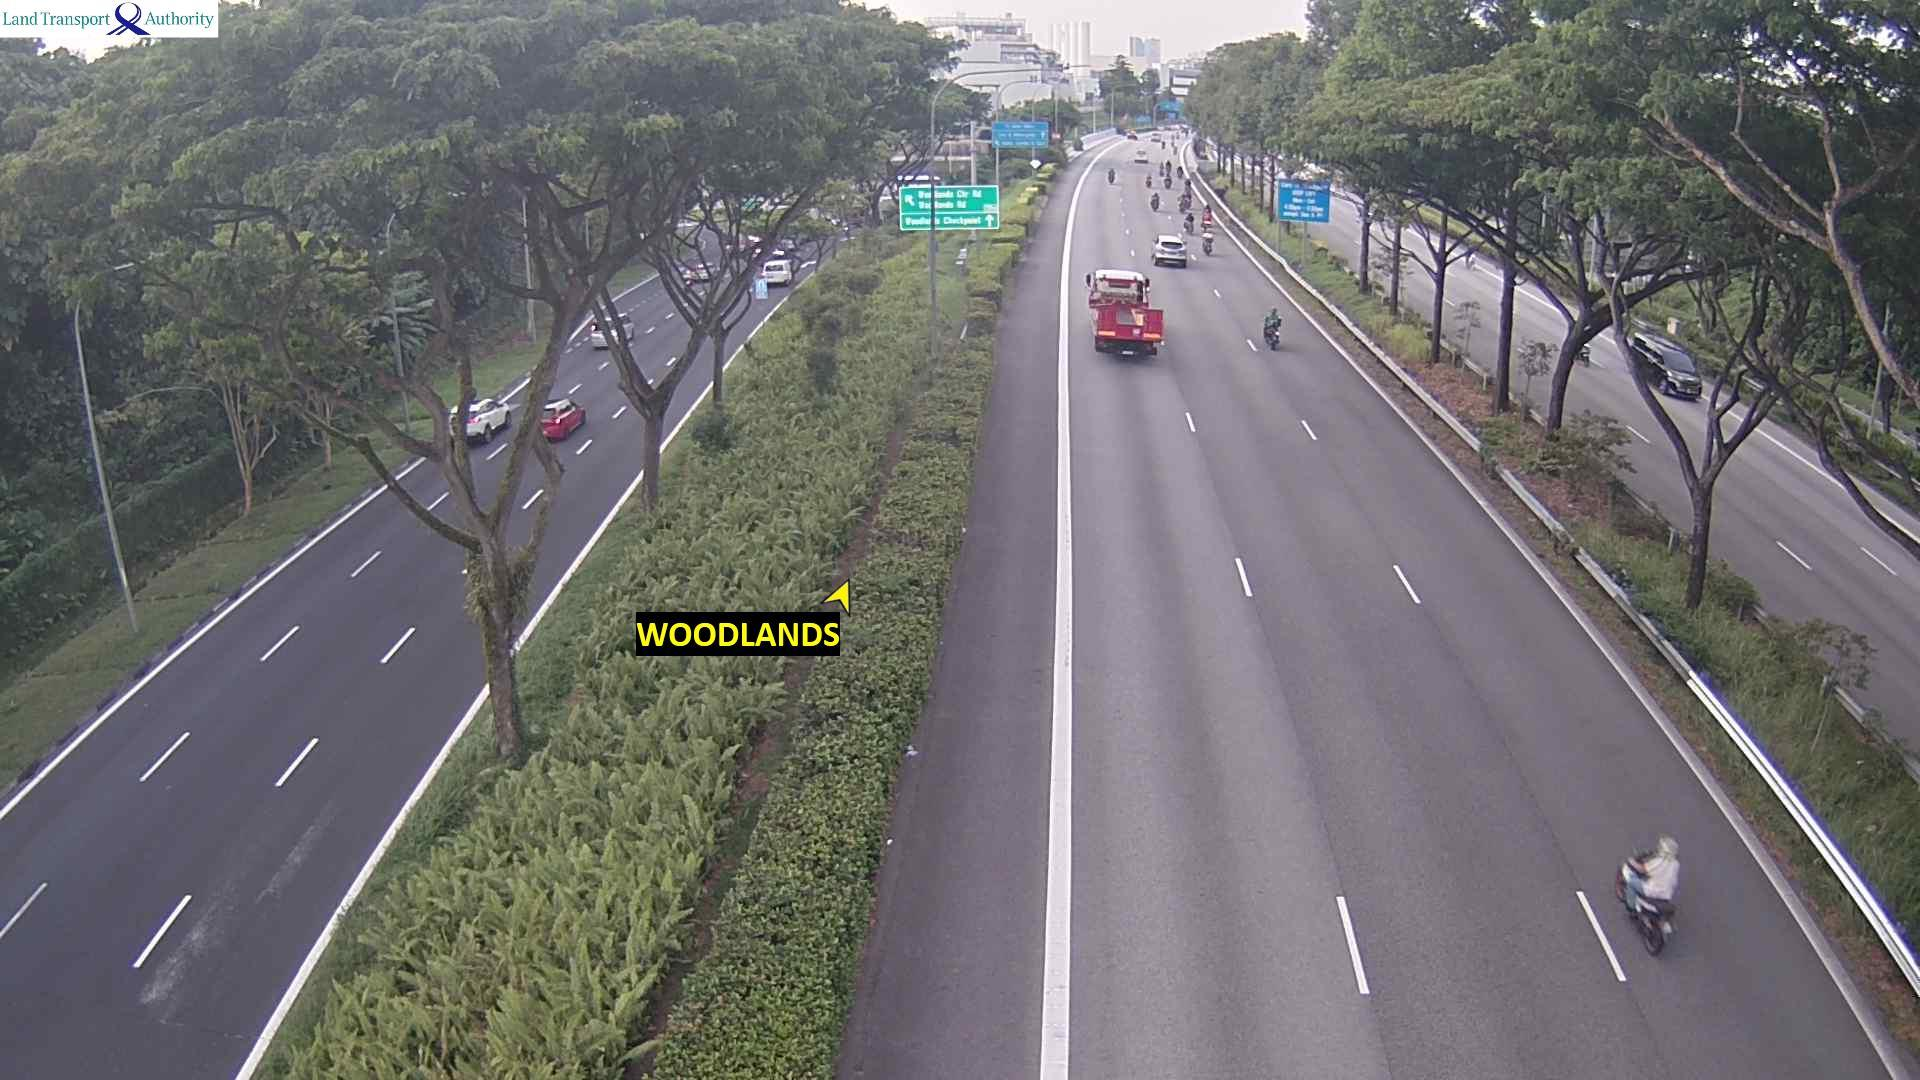incoming: (1655, 344, 1701, 400)
